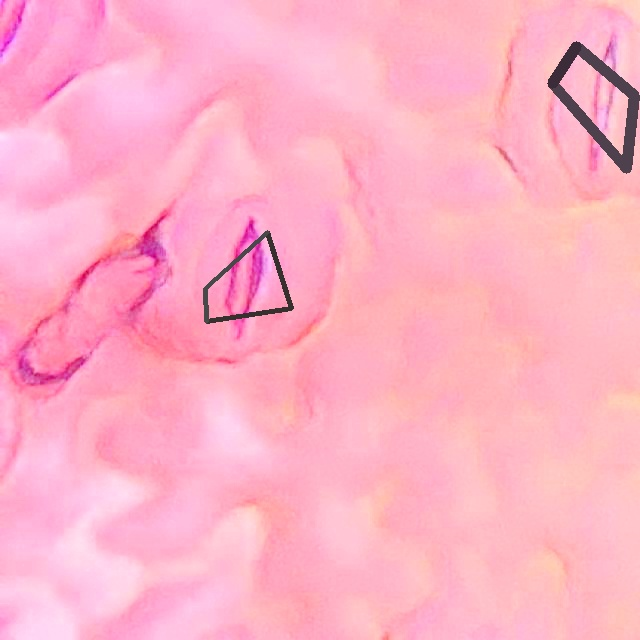open: (547, 42, 639, 172), (203, 230, 293, 323)
